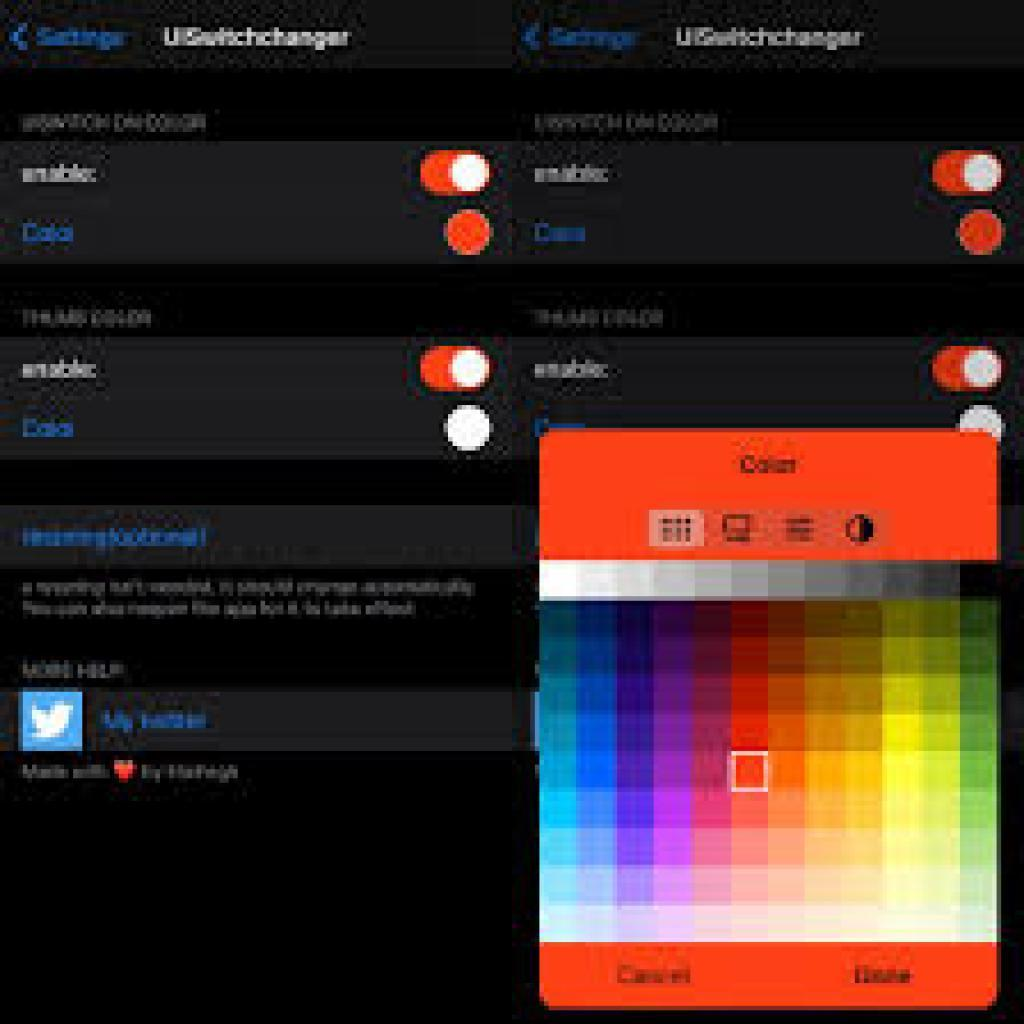switch: (418, 151, 492, 199), (932, 346, 1007, 390), (419, 347, 490, 390), (933, 151, 1001, 195)
